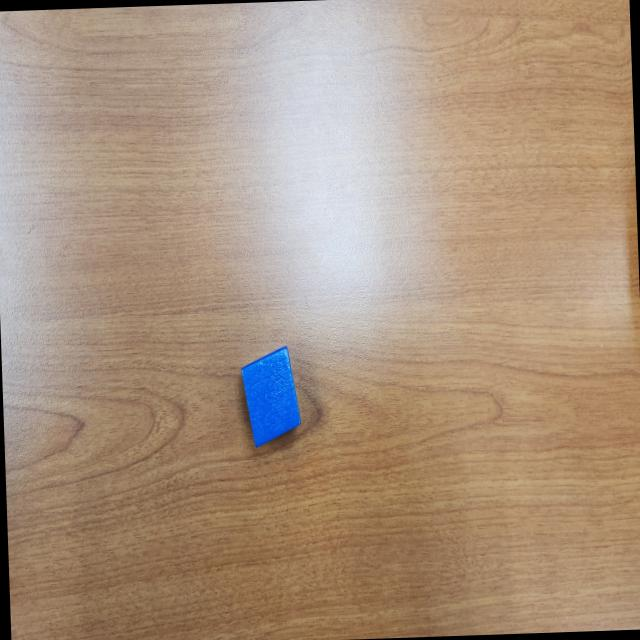blue: (240, 346, 300, 448)
